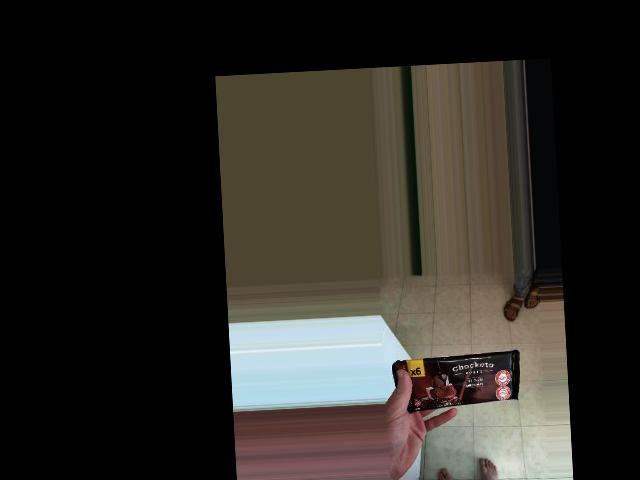chocolate: (388, 343, 522, 424)
